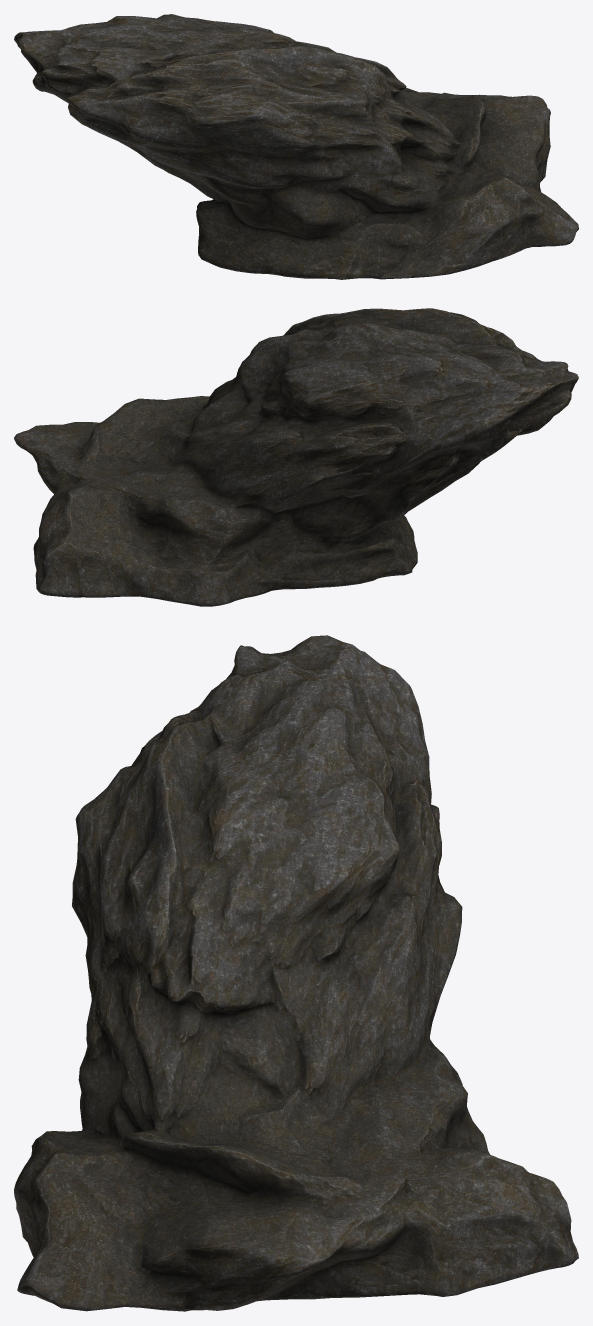
File: set2_rock_06.fbx
The picture shows the model from 3 angles, top to bottom: view 1: azimuth 30°, elevation 25°; view 2: azimuth 150°, elevation 25°; view 3: azimuth 270°, elevation 25°; orthographic projection. The views are drawn at different scales.
Visible parts, largest first — view 1: set2_rock_06; view 2: set2_rock_06; view 3: set2_rock_06.
Part boxes in pixels (<box>): set2_rock_06: <box>14,14,578,279</box>; set2_rock_06: <box>14,308,578,606</box>; set2_rock_06: <box>14,635,578,1311</box>.
Bounding box in the file's own units: 352 × 154 × 226.
Materials: 1 (1 with a texture image).
